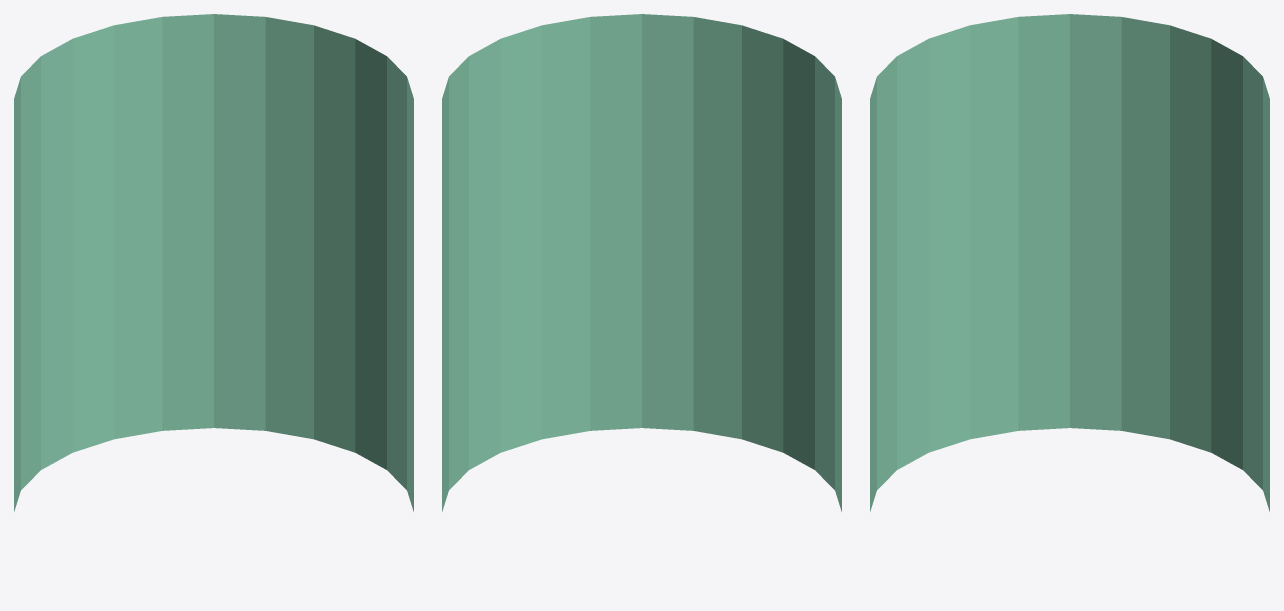
File: reactor-vessel.gltf
The picture shows the model from 3 angles, left to right: view 1: azimuth 30°, elevation 25°; view 2: azimuth 150°, elevation 25°; view 3: azimuth 270°, elevation 25°; orthographic projection.
Visible parts, largest first — view 1: ReactorVessel; view 2: ReactorVessel; view 3: ReactorVessel.
Boxes of the visible parts, x1,y1,x2,y2 form: ReactorVessel: (14, 14, 413, 511); ReactorVessel: (442, 14, 841, 511); ReactorVessel: (870, 14, 1269, 511).
Size of the model in its own units: 1.4 by 1.6 by 1.4.
